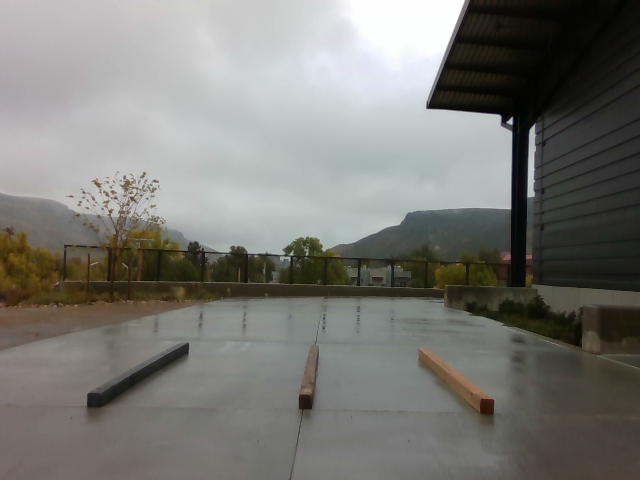dunnage: (77, 325, 500, 423)
